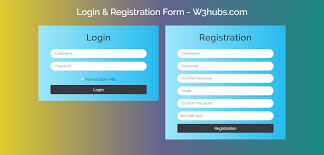Button: (47, 83, 153, 95), (175, 122, 279, 134)
CheckBox: (80, 76, 85, 82)
TextBox: (48, 60, 151, 75), (49, 46, 148, 59), (175, 85, 276, 96)
